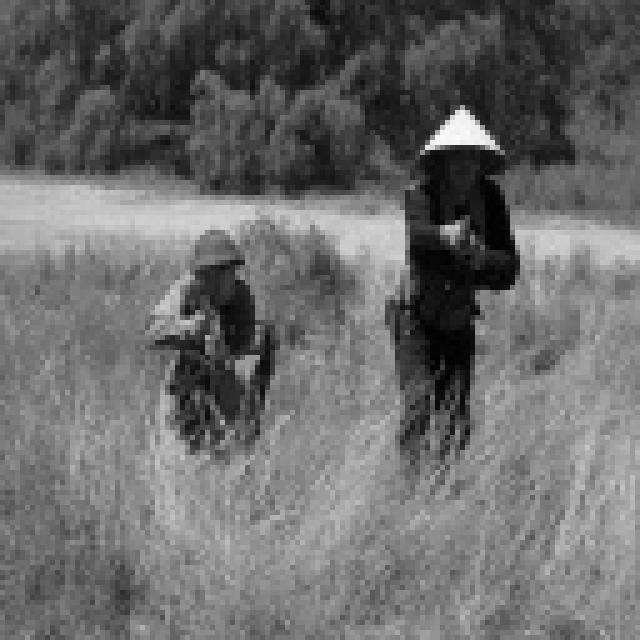Rifle: (177, 296, 260, 395), (424, 200, 508, 286)
